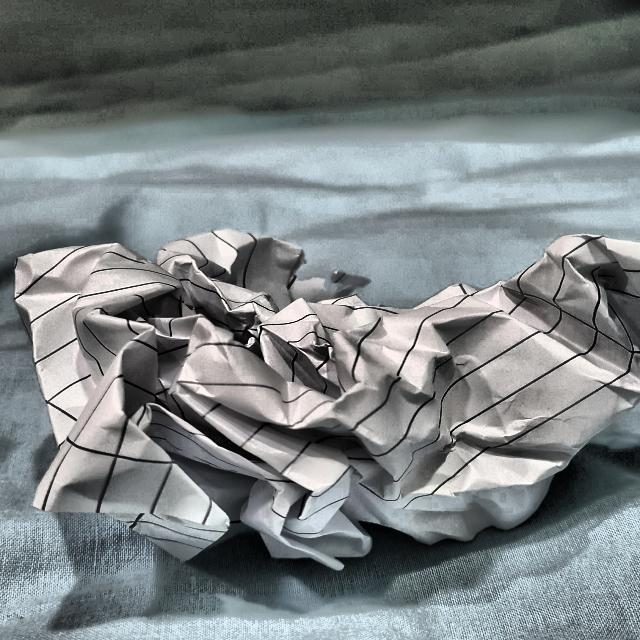paper: (7, 208, 640, 573)
